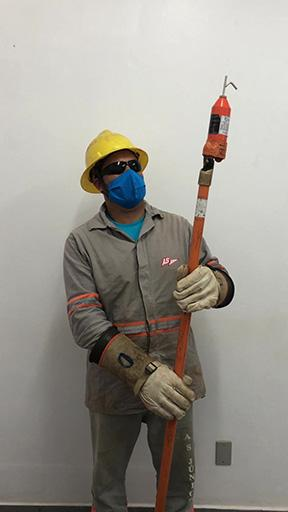Detector_Tensao_Contato: (202, 73, 240, 160)
Vara_Manobra: (157, 162, 216, 512)
